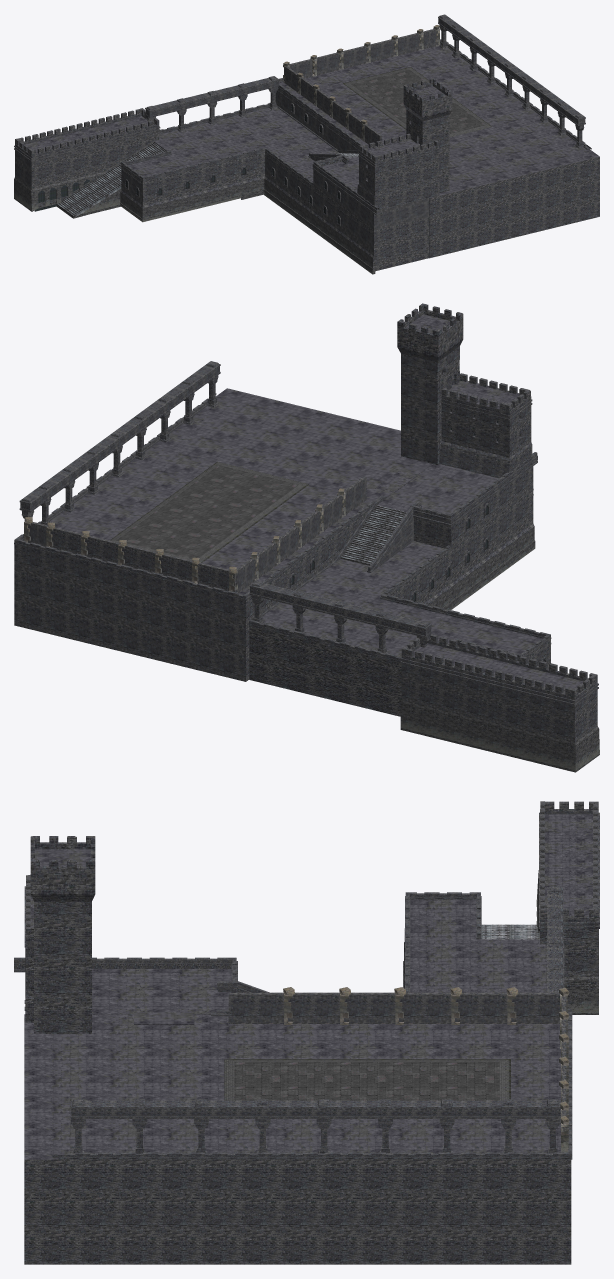
Rendered from Stage1Map.fbx.
3 views of the same model, one above another, from view 1: azimuth 30°, elevation 25°; view 2: azimuth 150°, elevation 25°; view 3: azimuth 270°, elevation 25° (orthographic). The views are drawn at different scales.
Visible parts, largest first — view 1: Component1; view 2: Component1; view 3: Component1.
Boxes of the visible parts, x1,y1,x2,y2 form: Component1: [14, 14, 599, 274]; Component1: [14, 303, 599, 772]; Component1: [14, 801, 599, 1264].
Size of the model in its own units: 138182 by 50761 by 95280.
